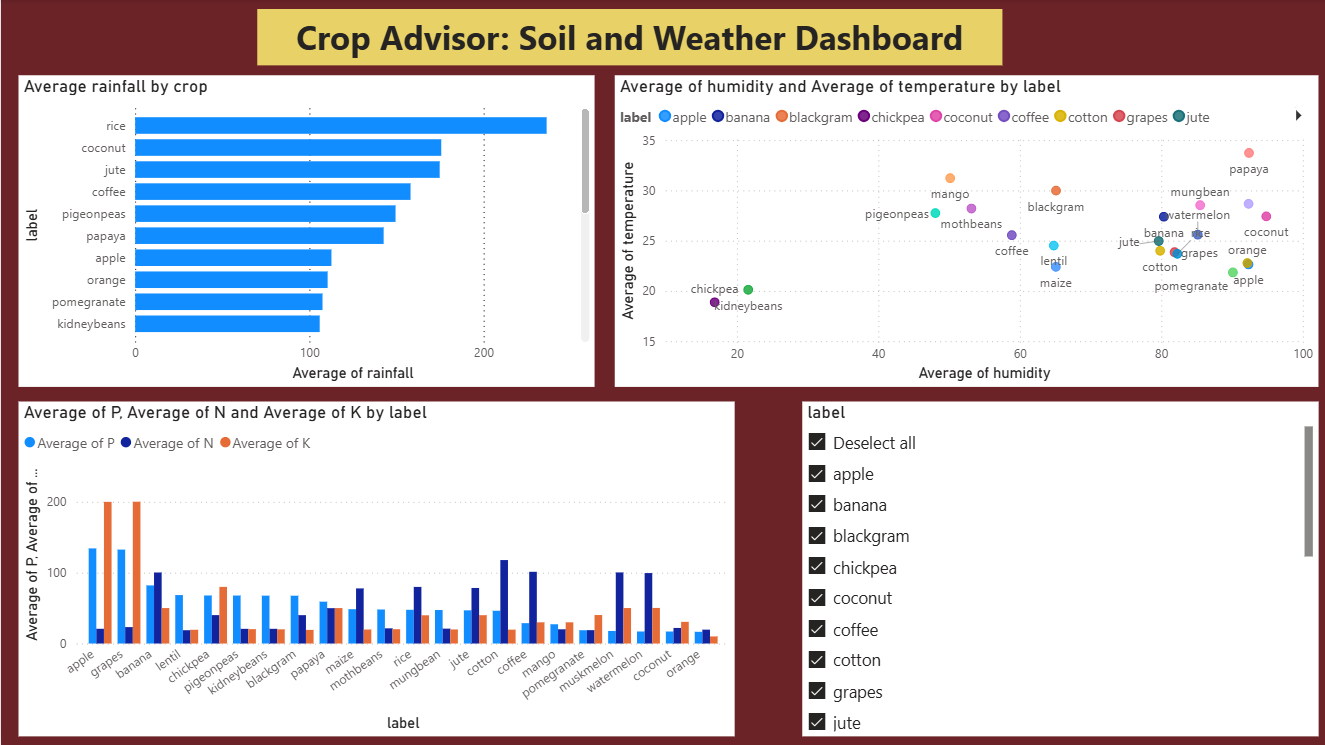

The page's visual inventory and layout, read from the dashboard file:
{"tool":"powerbi","page":{"name":"Page 1","canvas":[1280,720],"ordinal":0},"visuals":[{"type":"clusteredBarChart","title":"Average rainfall by crop","fields":{"Y":["Avg(Crop_recommendation.rainfall)"],"Category":["Crop_recommendation.label"]},"box":[16.9,73.6,556.2,300.4],"z":0},{"type":"clusteredColumnChart","fields":{"Category":["Crop_recommendation.label"],"Y":["Avg(Crop_recommendation.P)","Avg(Crop_recommendation.N)","Avg(Crop_recommendation.K)"]},"box":[16.9,388.5,691.3,323.3],"z":1000},{"type":"listSlicer","fields":{"Values":["Crop_recommendation.label"]},"box":[773.3,388.5,498.3,323.3],"z":2000},{"type":"scatterChart","fields":{"X":["Avg(Crop_recommendation.humidity)"],"Y":["Avg(Crop_recommendation.temperature)"],"Series":["Crop_recommendation.label"]},"box":[592.4,73.6,679.2,300.4],"z":3000},{"type":"textbox","box":[247.3,9.7,719,54.3],"z":3001}]}

Visuals, with their boxes in screenshot pixels (x1, y1, x2, y2), scaled from the page's 1280x720 canvas onto the 1325x745 screenshot:
"Average rainfall by crop" clusteredBarChart: (17, 76, 593, 387)
clusteredColumnChart - Crop_recommendation.label x Avg(Crop_recommendation.P): (17, 402, 733, 737)
listSlicer - Crop_recommendation.label: (800, 402, 1316, 737)
scatterChart - Avg(Crop_recommendation.humidity) x Avg(Crop_recommendation.temperature): (613, 76, 1316, 387)
textbox: (256, 10, 1000, 66)
